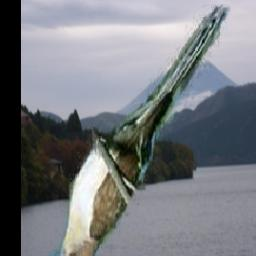Cuckoo: (42, 0, 229, 256)
